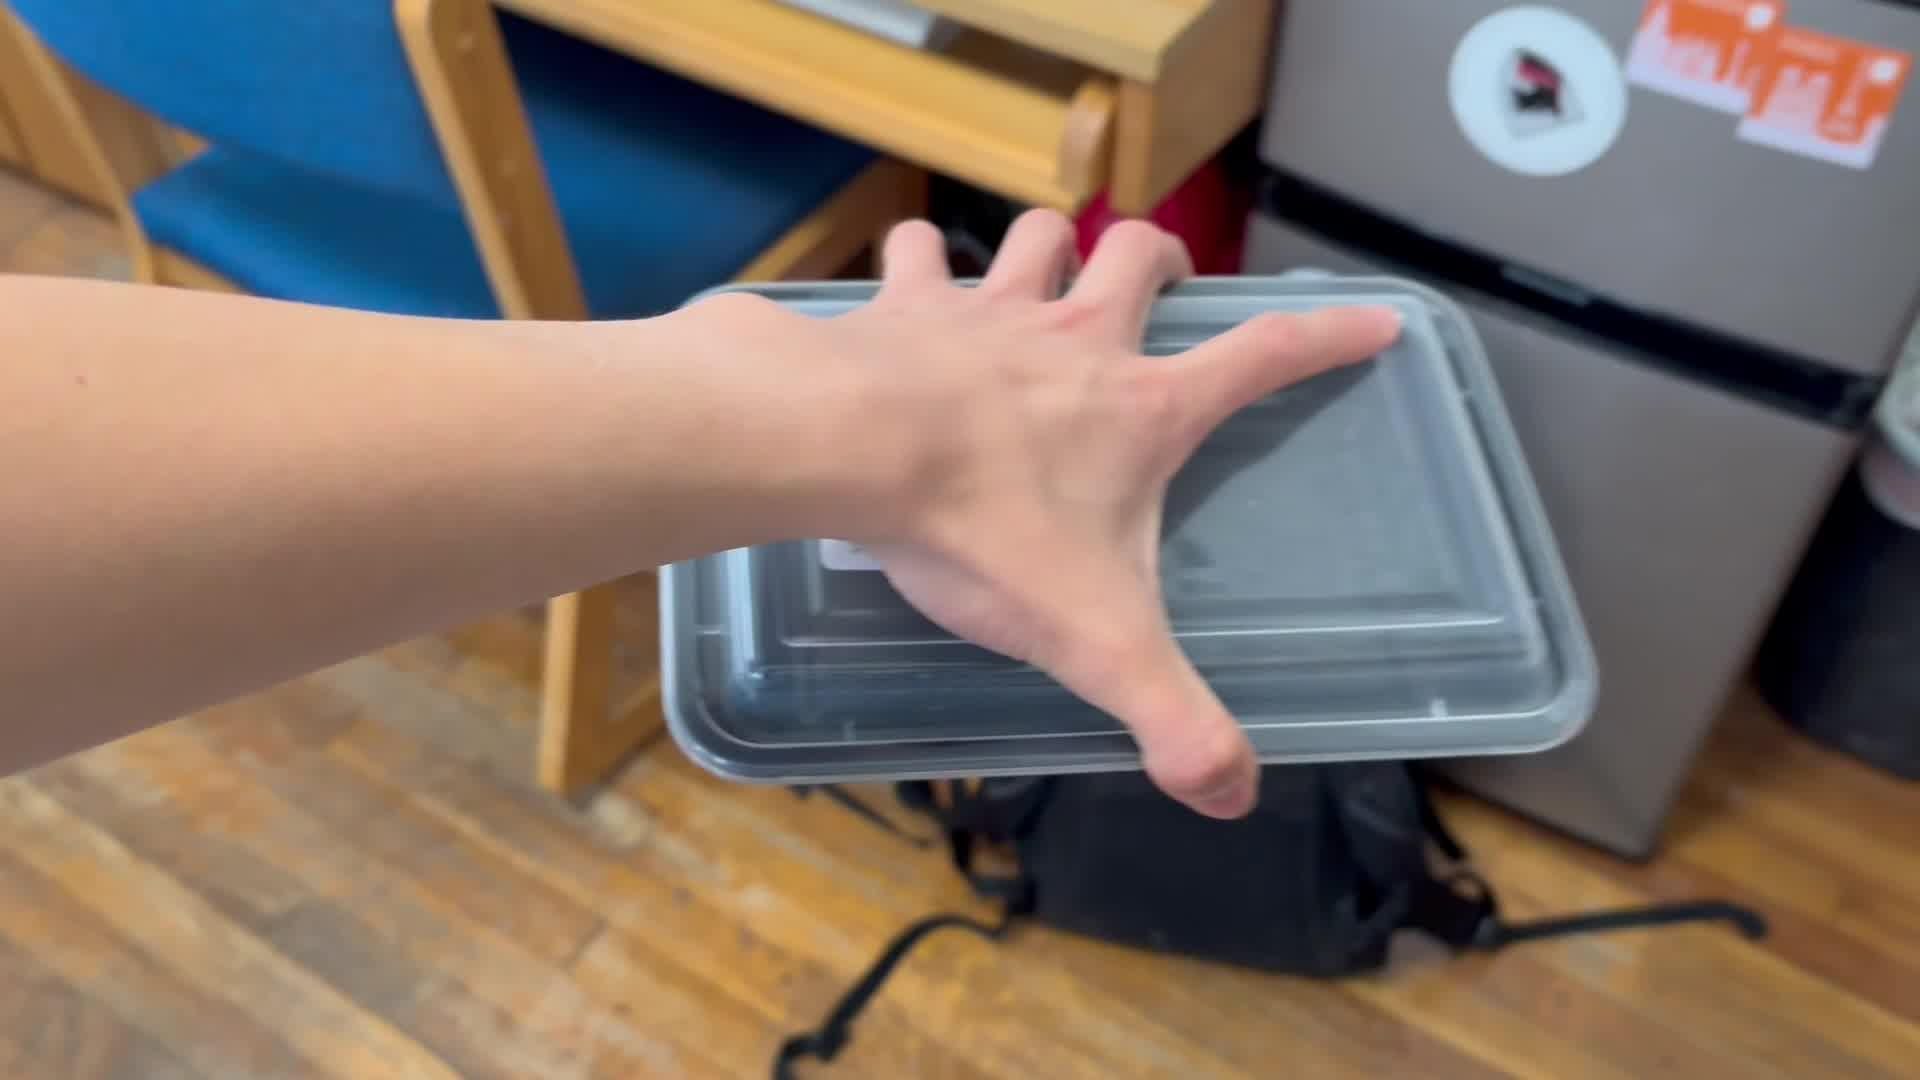lp_cup_lids: (670, 277, 1578, 793)
